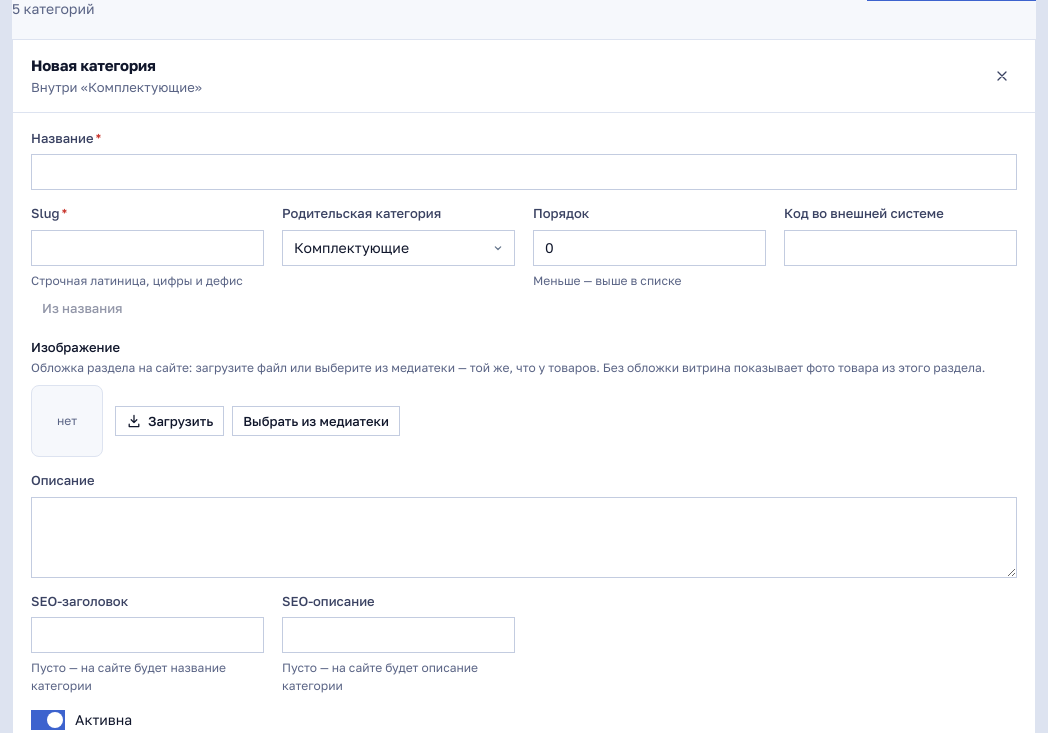
Scenario: создание категории › подкатегория: родитель подставлен, POST с полным переводом, переход к карточке
Expected: the heading "Новая категория" is shown, x1=31 y1=56 x2=156 y2=74
Expected: the text "Внутри «Комплектующие»" is shown, x1=31 y1=78 x2=202 y2=98
In the field labelled "Название*": [524, 172] box x1=31 y1=154 x2=1017 y2=190, type "Тросы"
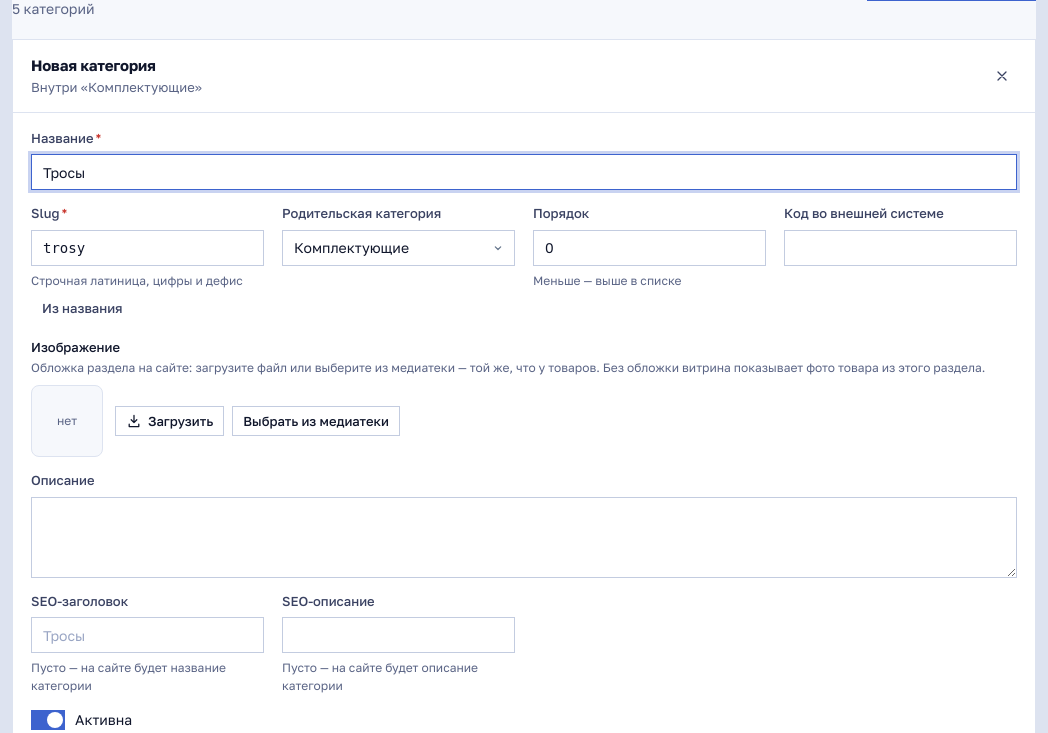
Expected: the field labelled "Slug*" holds "trosy", x1=31 y1=230 x2=264 y2=266
In the text box labelled "Описание": [524, 537] box x1=31 y1=497 x2=1017 y2=578, type "Стальные тросы"
(page scrolled)
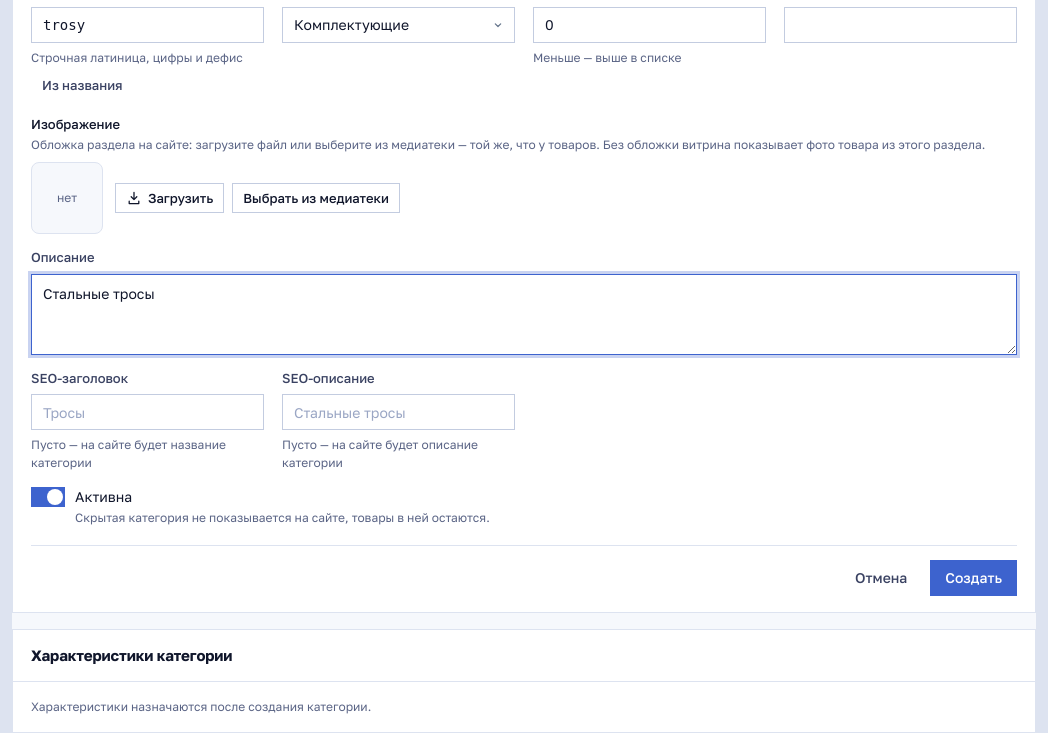
Click the button "Создать": [974, 578] box x1=930 y1=560 x2=1017 y2=596
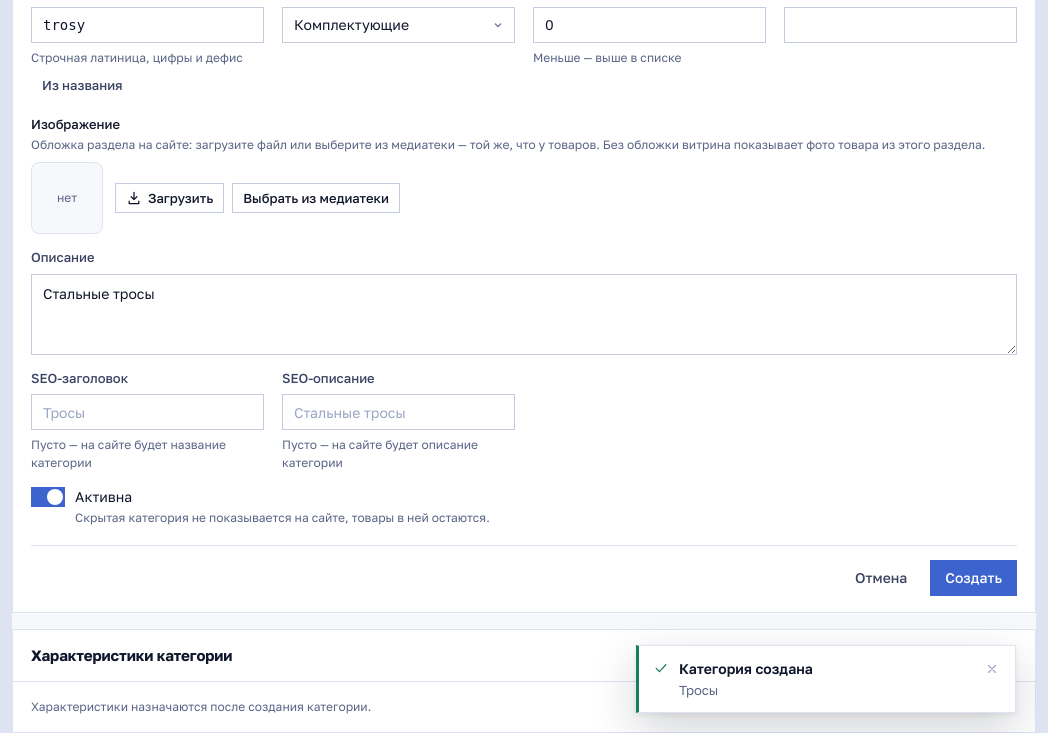
Expected: the text "Категория создана" is shown, x1=679 y1=660 x2=813 y2=676
